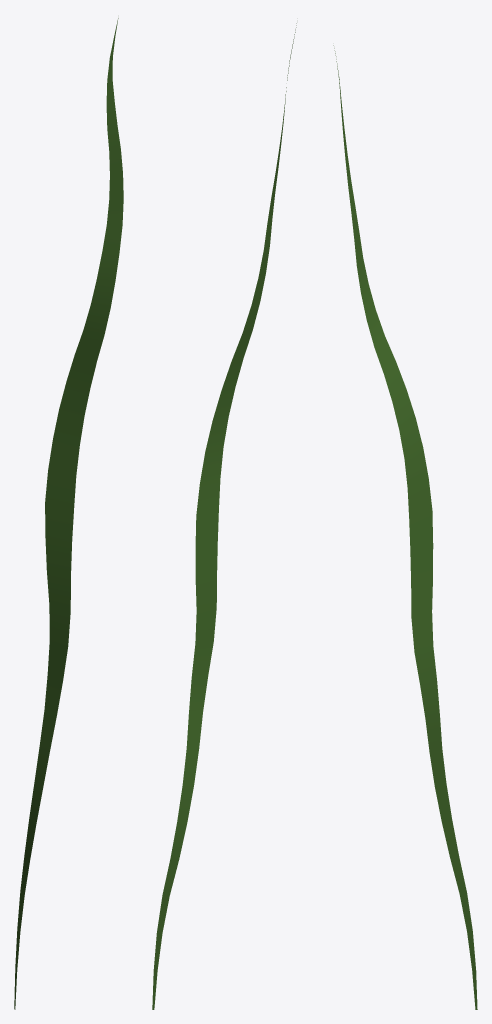
Rendered from plant_swamp_kelp_giant_C_solo_A.fbx.
3 views of the same model, side by side, from view 1: azimuth 90°, elevation 25°; view 2: azimuth 150°, elevation 25°; view 3: azimuth 330°, elevation 25° (orthographic). The views are drawn at different scales.
Parts seen in each view (by area): view 1: plant_swamp_kelp_giant_C_solo_A; view 2: plant_swamp_kelp_giant_C_solo_A; view 3: plant_swamp_kelp_giant_C_solo_A.
Part boxes in pixels (box(x1,y1,x2,y2)): plant_swamp_kelp_giant_C_solo_A: box(14, 18, 123, 1009); plant_swamp_kelp_giant_C_solo_A: box(152, 23, 296, 1009); plant_swamp_kelp_giant_C_solo_A: box(333, 45, 477, 1009).
Size of the model in its own units: 58.51 by 567 by 53.75.
